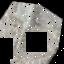Purslane: (38, 20, 62, 64)
